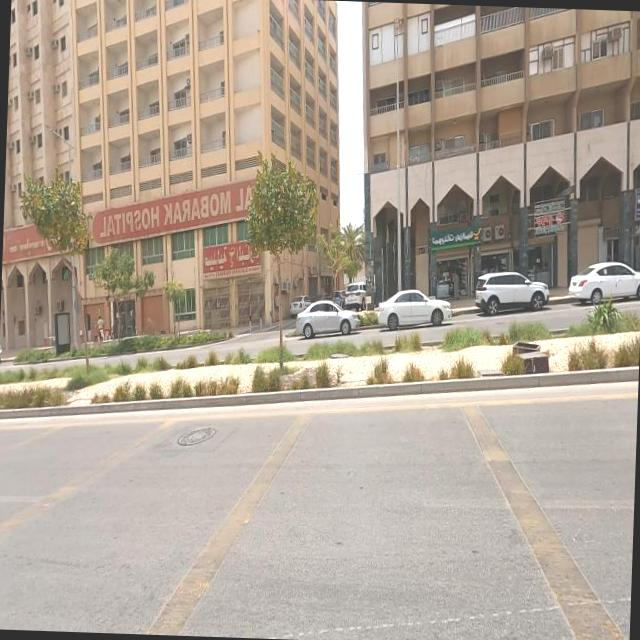debris: (43, 132, 332, 284), (1, 182, 120, 288)
